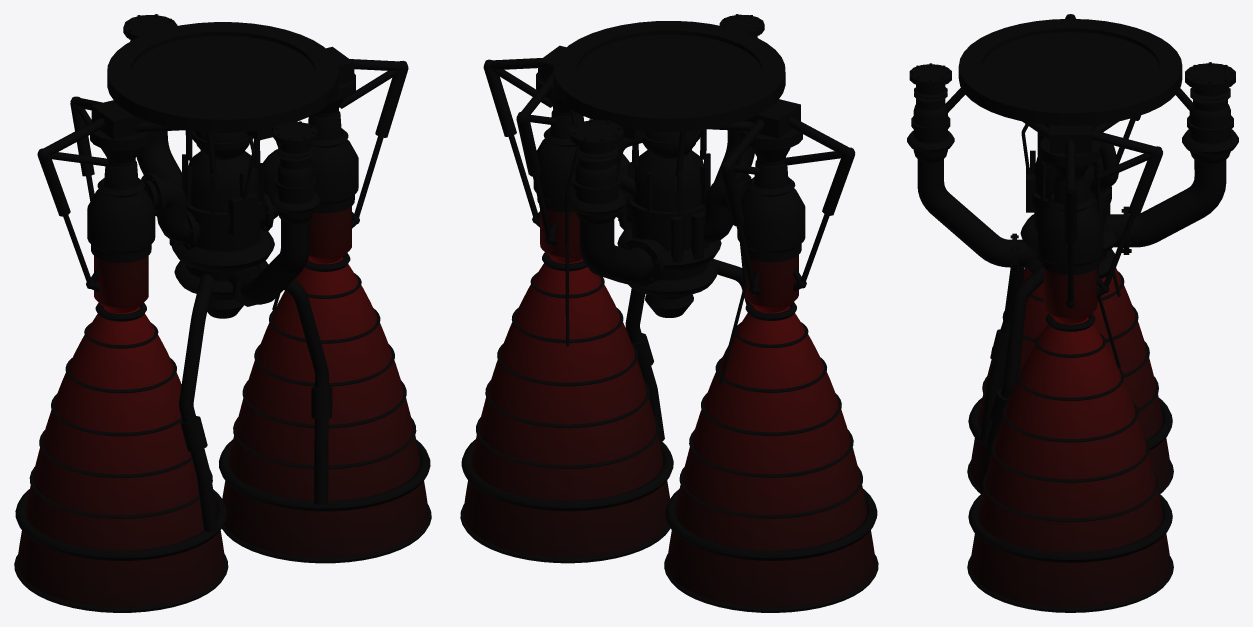
Rendered from eng_kerolox_staged_combustion.fbx.
The picture shows the model from 3 angles, left to right: view 1: azimuth 30°, elevation 25°; view 2: azimuth 150°, elevation 25°; view 3: azimuth 270°, elevation 25°; orthographic projection. The views are drawn at different scales.
Visible parts, largest first — view 1: eng_kerolox_staged_combustion_LOD0; view 2: eng_kerolox_staged_combustion_LOD0; view 3: eng_kerolox_staged_combustion_LOD0.
Part boxes in pixels (x1=…): eng_kerolox_staged_combustion_LOD0: x1=14, y1=14, x2=431, y2=612; eng_kerolox_staged_combustion_LOD0: x1=460, y1=14, x2=878, y2=612; eng_kerolox_staged_combustion_LOD0: x1=907, y1=14, x2=1238, y2=612.
Size of what is drawn, in the model's own units: 3.1 by 3.6 by 2.37.
